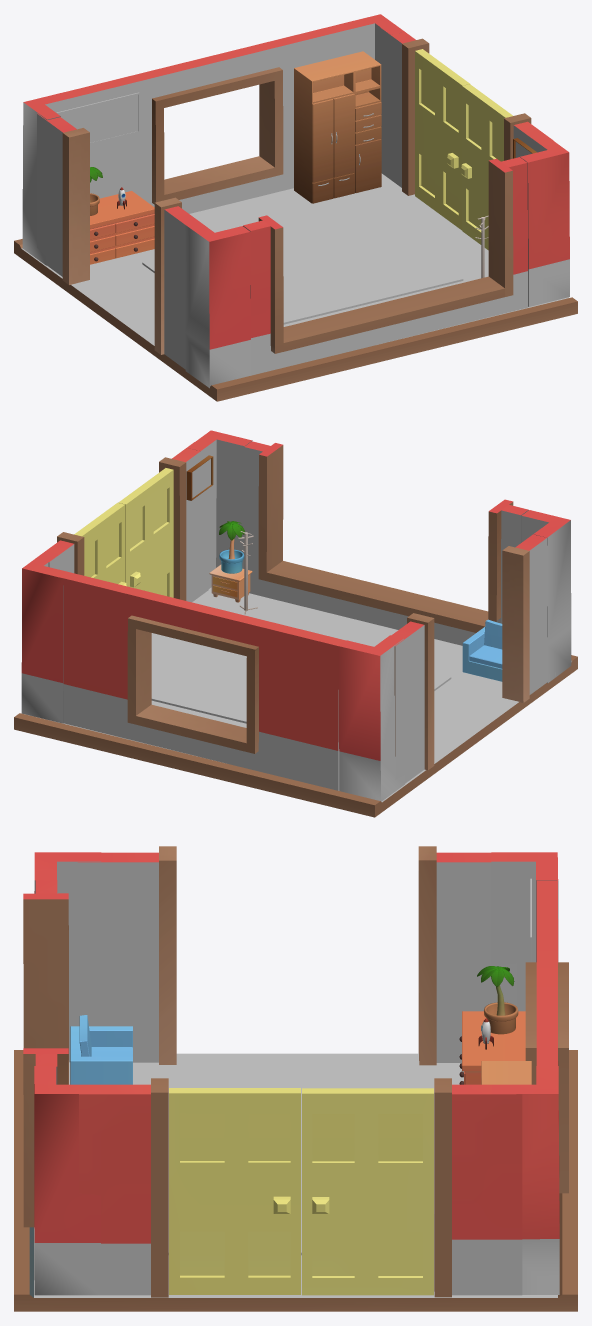
Rendered from ENTRADA.fbx.
The picture shows the model from 3 angles, top to bottom: view 1: azimuth 30°, elevation 25°; view 2: azimuth 150°, elevation 25°; view 3: azimuth 270°, elevation 25°; orthographic projection. The views are drawn at different scales.
Parts seen in each view (by area): view 1: suelo1, paret_ventana8, paret_con_ventana_grande23, fombra7, armario1, paret_esquina_72, paret_con_borde16, puerta_dob_3, paret_esquina32, paret_doblepuerta3, paret_con_borde15, puerta_dob__2 (+4 smaller); view 2: paret_ventana8, suelo1, paret_con_ventana_grande23, paret_esquina_86, paret_con_borde15, paret_esquina33, paret_con_borde16, paret_doblepuerta3, fombra7, puerta_dob__2, paret_esquina_72, paret_esquina32 (+5 smaller); view 3: paret_doblepuerta3, puerta_dob_3, puerta_dob__2, suelo1, paret_con_borde15, paret_con_borde16, paret_esquina32, paret_con_ventana_grande23, paret_esquina33, paret_ventana8, paret_esquina_86, sillon2 (+4 smaller).
Part boxes in pixels (<box>): suelo1: <box>14,173,577,401</box>; paret_ventana8: <box>65,23,349,213</box>; paret_con_ventana_grande23: <box>243,157,527,375</box>; fombra7: <box>142,208,463,324</box>; armario1: <box>294,51,381,203</box>; paret_esquina_72: <box>185,221,250,388</box>; paret_con_borde16: <box>37,113,89,284</box>; puerta_dob_3: <box>415,49,469,230</box>; paret_esquina32: <box>520,135,569,306</box>; paret_doblepuerta3: <box>380,27,553,195</box>; paret_con_borde15: <box>154,197,204,375</box>; puerta_dob__2: <box>461,84,512,250</box>; paret_ventana8: <box>61,572,345,790</box>; suelo1: <box>14,587,577,817</box>; paret_con_ventana_grande23: <box>243,441,528,645</box>; paret_esquina_86: <box>338,635,404,801</box>; paret_con_borde15: <box>502,529,555,702</box>; paret_esquina33: <box>21,551,68,723</box>; paret_con_borde16: <box>391,613,434,783</box>; paret_doblepuerta3: <box>46,442,208,602</box>; fombra7: <box>151,644,451,723</box>; puerta_dob__2: <box>118,468,173,597</box>; paret_esquina_72: <box>521,510,571,683</box>; paret_esquina32: <box>187,430,252,588</box>; paret_doblepuerta3: <box>79,1078,522,1297</box>; puerta_dob_3: <box>302,1088,433,1295</box>; puerta_dob__2: <box>169,1088,300,1294</box>; suelo1: <box>14,1050,577,1311</box>; paret_con_borde15: <box>77,846,176,1064</box>; paret_con_borde16: <box>418,846,517,1065</box>; paret_esquina32: <box>34,1066,100,1295</box>; paret_con_ventana_grande23: <box>23,880,68,1227</box>; paret_esquina33: <box>492,1066,559,1294</box>; paret_ventana8: <box>525,880,568,1193</box>; paret_esquina_86: <box>491,852,558,1011</box>; sillon2: <box>70,1015,132,1084</box>.
Bounding box in the file's own units: 878 × 363 × 841.
